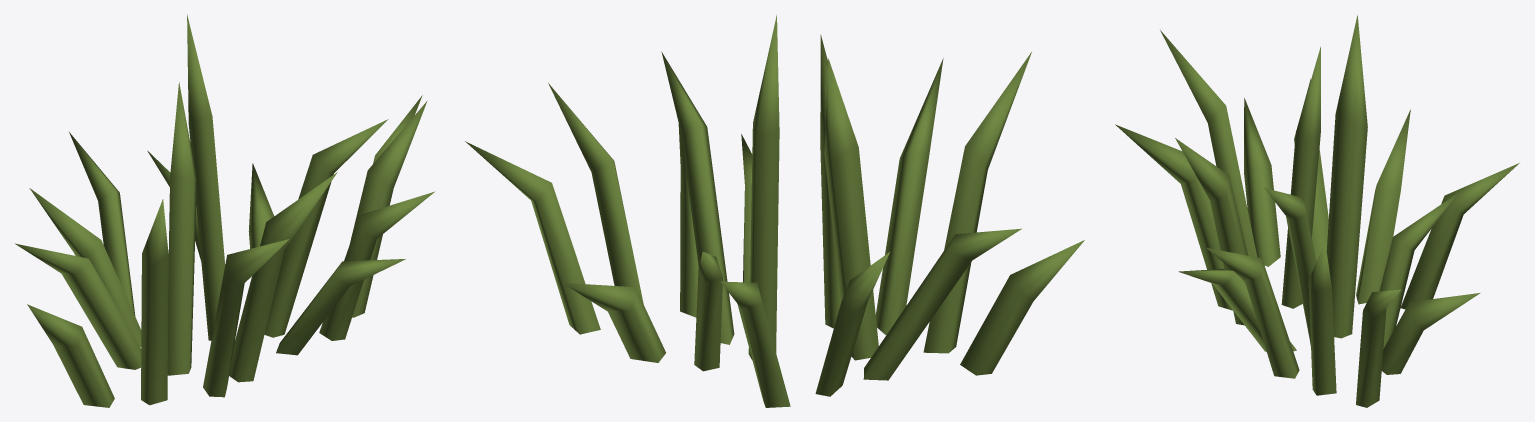
Rendered from rpgpp_av_grass_small_01b.gltf.
The picture shows the model from 3 angles, left to right: view 1: azimuth 30°, elevation 25°; view 2: azimuth 150°, elevation 25°; view 3: azimuth 270°, elevation 25°; orthographic projection. The views are drawn at different scales.
Visible parts, largest first — view 1: rpgpp_av_grass_small_01b; view 2: rpgpp_av_grass_small_01b; view 3: rpgpp_av_grass_small_01b.
Boxes of the visible parts, x1,y1,x2,y2 form: rpgpp_av_grass_small_01b: (15, 14, 435, 407); rpgpp_av_grass_small_01b: (465, 15, 1084, 407); rpgpp_av_grass_small_01b: (1115, 15, 1519, 407).
Size of the model in its own units: 0.0183 by 0.0118 by 0.014.
Materials: 1 (1 with a texture image).
